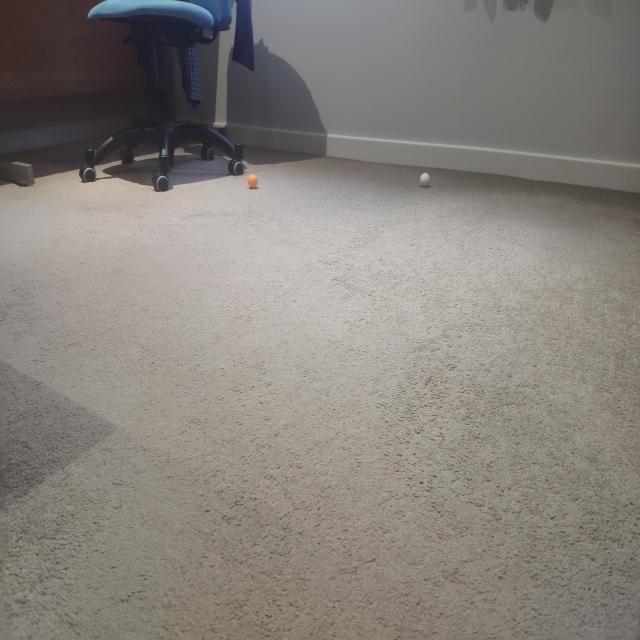oball: (247, 174, 260, 191)
